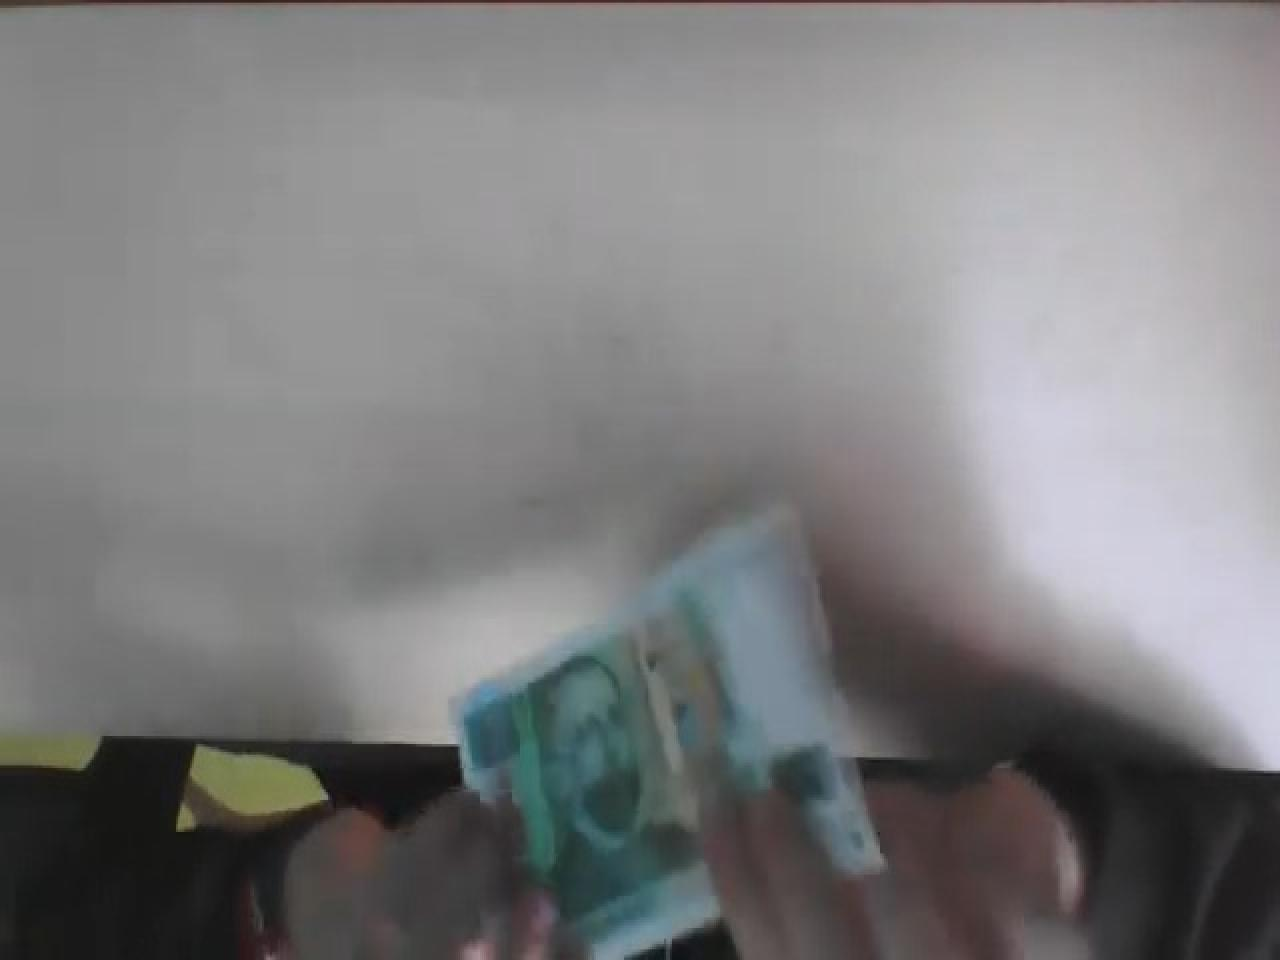100leva: (450, 499, 886, 960)
